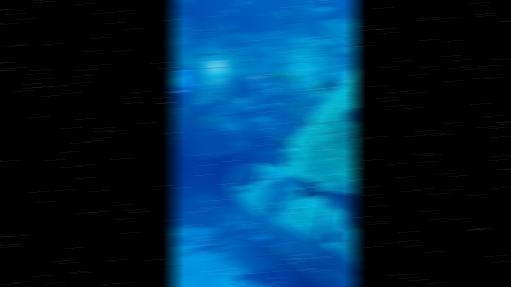Fish: (298, 0, 335, 18), (340, 194, 357, 229), (297, 179, 324, 198), (313, 79, 342, 96), (274, 70, 301, 84), (230, 186, 255, 195), (277, 136, 294, 149), (344, 108, 357, 123), (301, 114, 312, 126), (327, 230, 338, 242), (291, 101, 300, 115), (277, 8, 288, 19), (275, 244, 284, 255), (263, 121, 274, 129), (201, 116, 212, 122), (236, 1, 249, 6), (177, 107, 184, 116), (224, 9, 235, 14), (178, 0, 191, 4), (224, 24, 233, 29), (259, 151, 270, 155), (268, 103, 279, 107), (180, 27, 187, 32), (263, 12, 270, 17)
